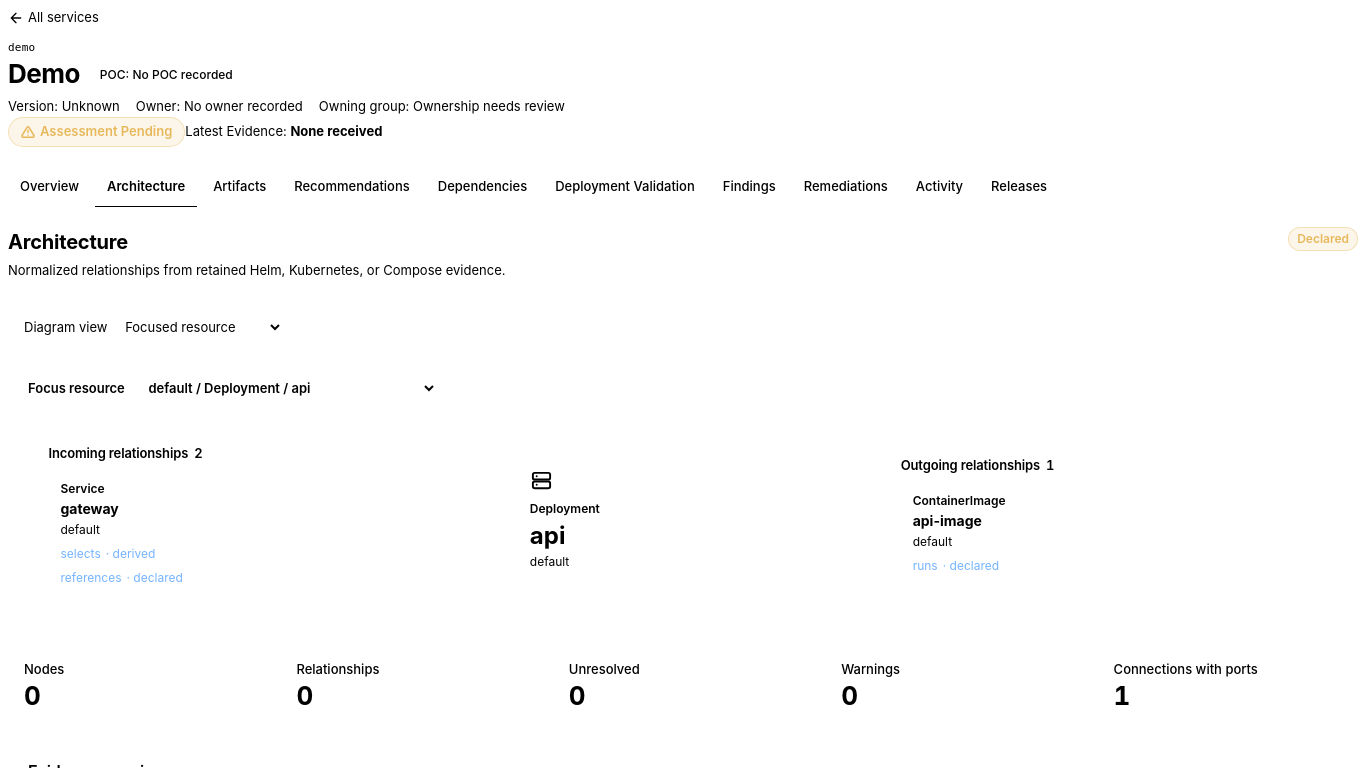
Scenario: native architecture › shows a workload and its recorded neighbors, with direction, classifications and evidence
Check: the dropdown labelled "Diagram view" shows "Focused resource", box [111,309,283,345]
Check: the dropdown labelled "Focus resource" shows "default / Deployment / api", box [134,370,437,406]
Click the button with aria-label "Relationship selects": (108, 554) [60,545,155,563]
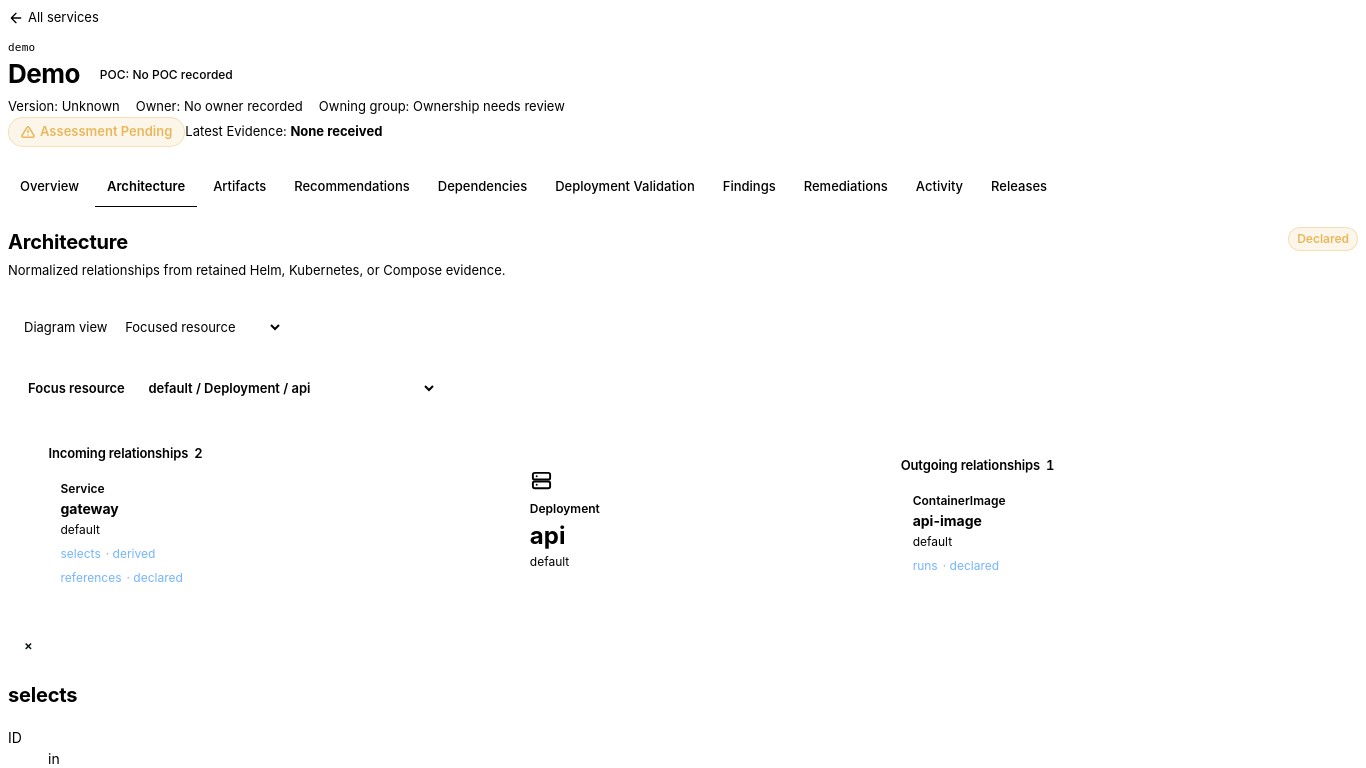
Click the button "ContainerImage api-image default": (959, 501) [913,492,1306,551]
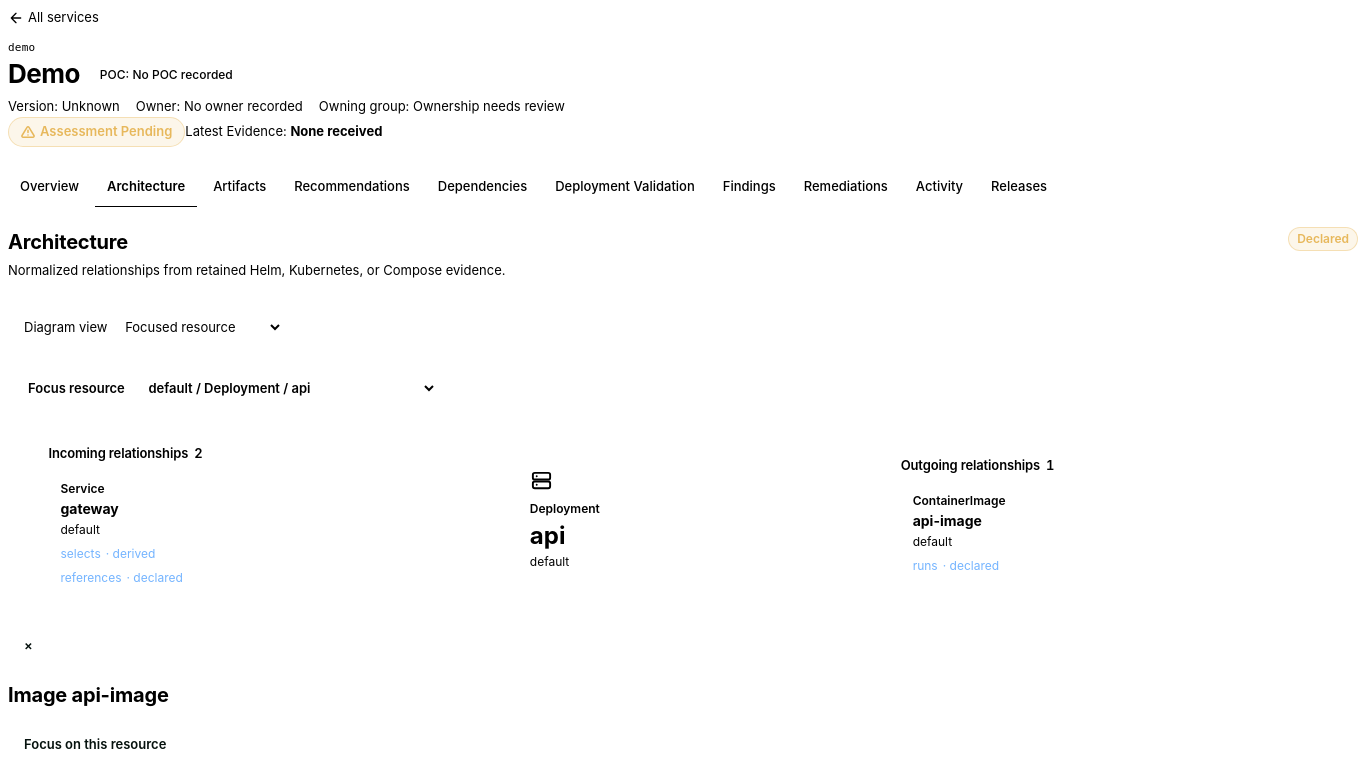
Click the button "Focus on this resource": (95, 745) [8,727,182,763]
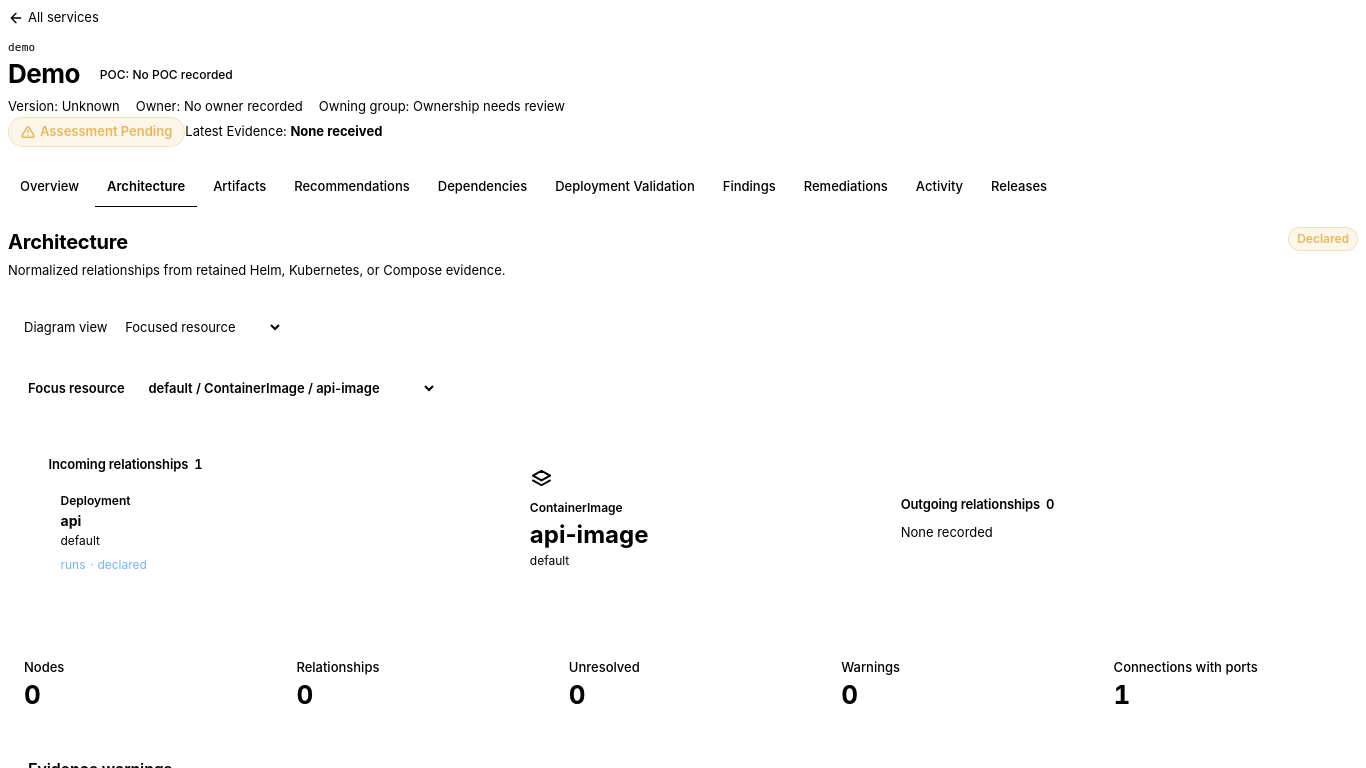
Check: the button "Deployment api default" is shown, box [60,492,453,550]
Check: the dropdown labelled "Focus resource" shows "default / ContainerImage / api-image"
Select "default / Pod / other" in the dropdown labelled "Focus resource": (286, 388) [134,370,437,406]
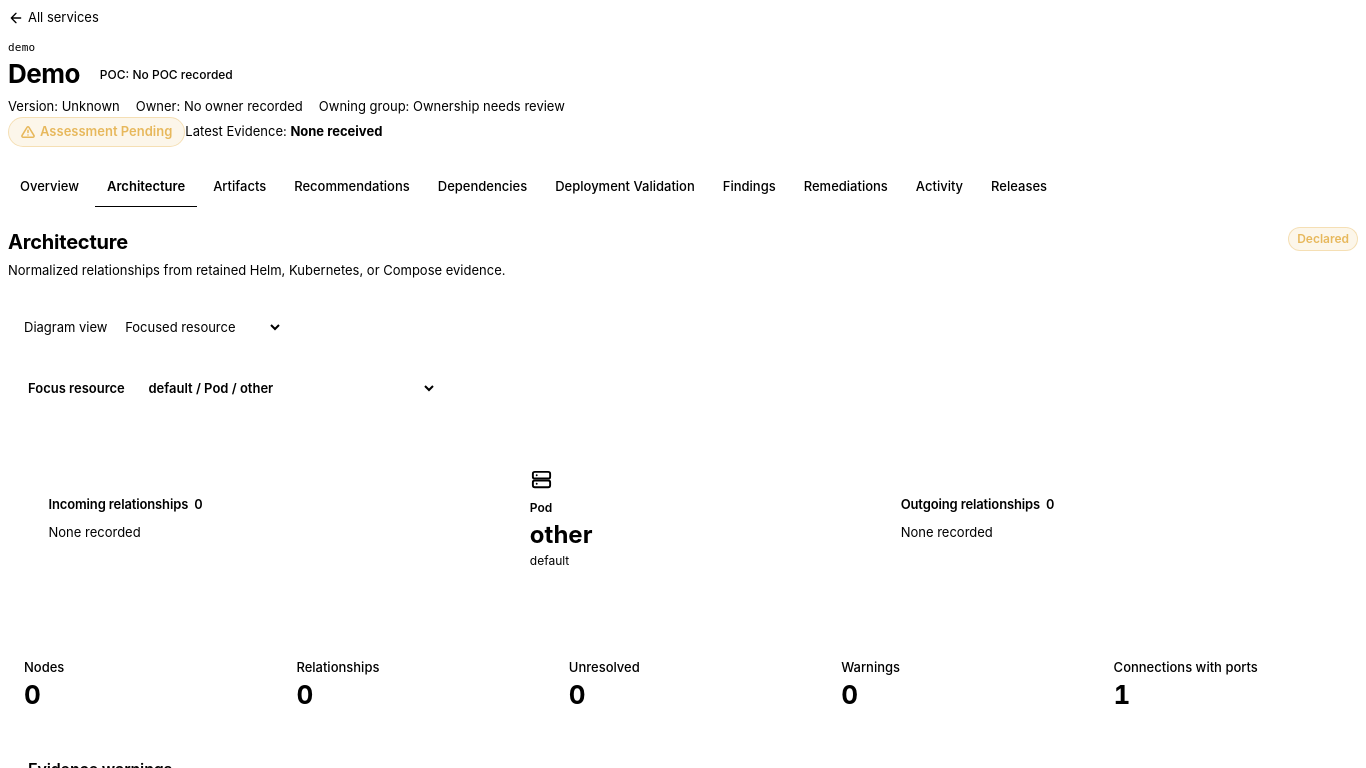
Check: the text "None recorded" is shown 2 times, box [48,524,141,540]; [901,524,993,540]
